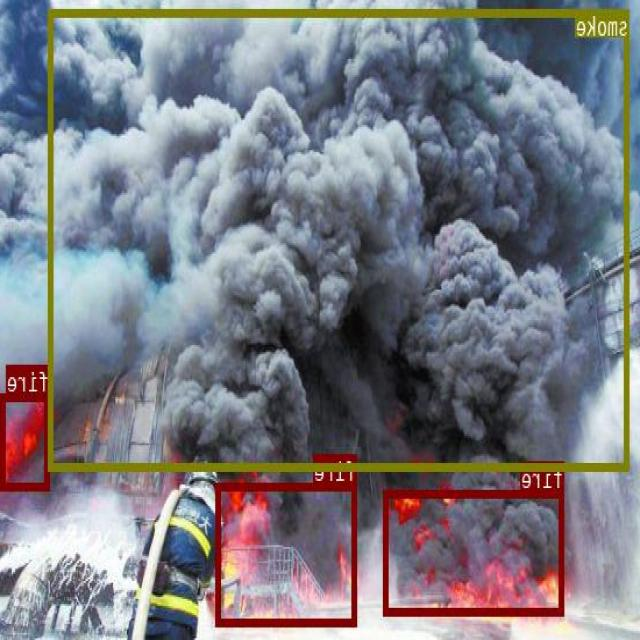fire: (385, 490, 565, 614), (216, 482, 358, 624), (2, 393, 51, 488)
smoke: (50, 7, 630, 470)
